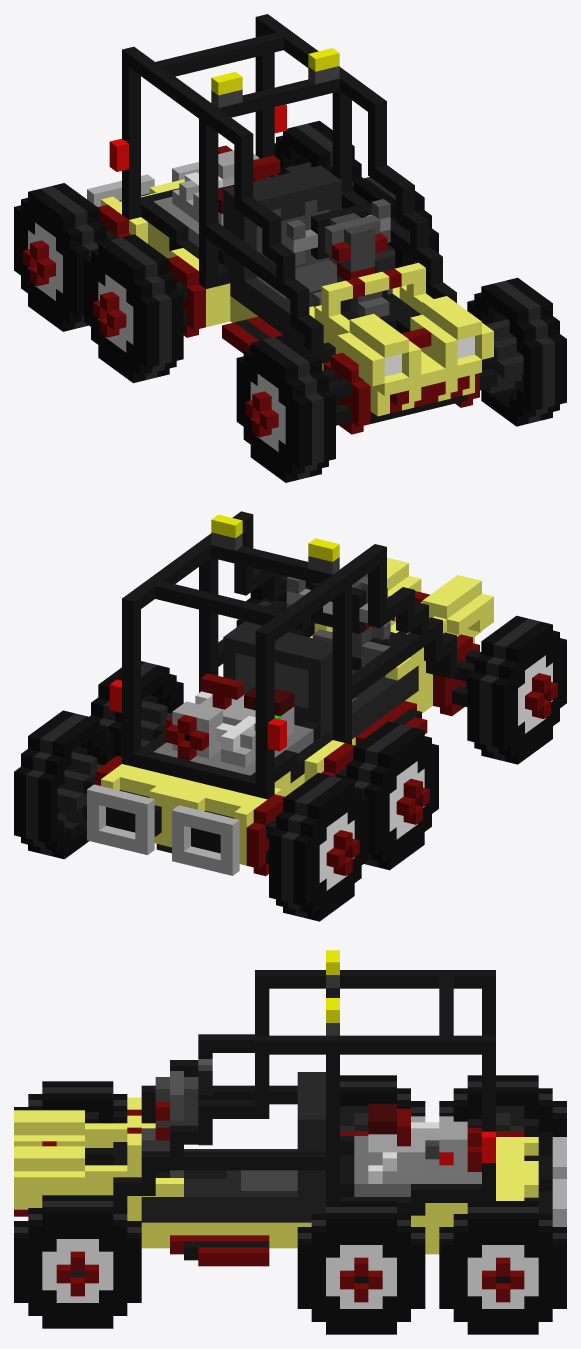
The model's file is Yellow_6_Wheeler.obj.
3 views of the same model, one above another, from view 1: azimuth 30°, elevation 25°; view 2: azimuth 150°, elevation 25°; view 3: azimuth 270°, elevation 25° (orthographic).
Size of the model in its own units: 2.6 by 2.2 by 3.9.
1 material, 1 textured.
